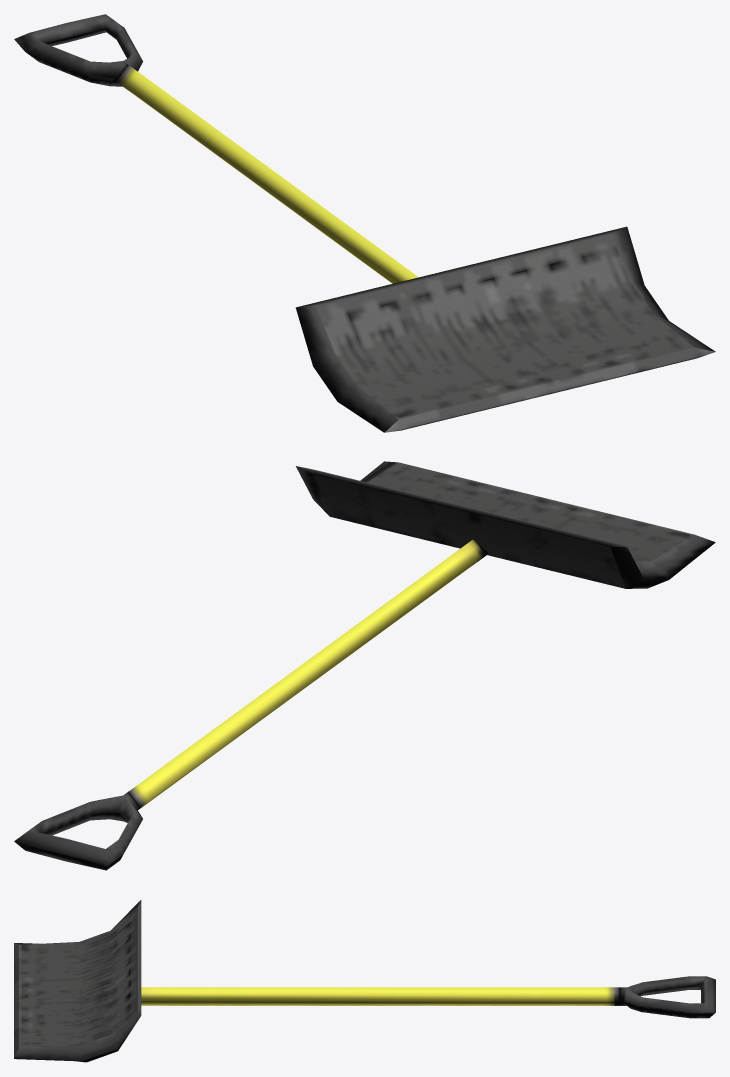
File: SnowShovel.fbx
3 views of the same model, one above another, from view 1: azimuth 30°, elevation 25°; view 2: azimuth 150°, elevation 25°; view 3: azimuth 270°, elevation 25° (orthographic). The views are drawn at different scales.
Parts seen in each view (by area): view 1: pCube4; view 2: pCube4; view 3: pCube4.
Boxes of the visible parts, bbox=[...] form: pCube4: bbox=[14, 14, 715, 432]; pCube4: bbox=[14, 461, 715, 870]; pCube4: bbox=[14, 900, 715, 1062].
Size of the model in its own units: 50.38 by 10.74 by 129.
